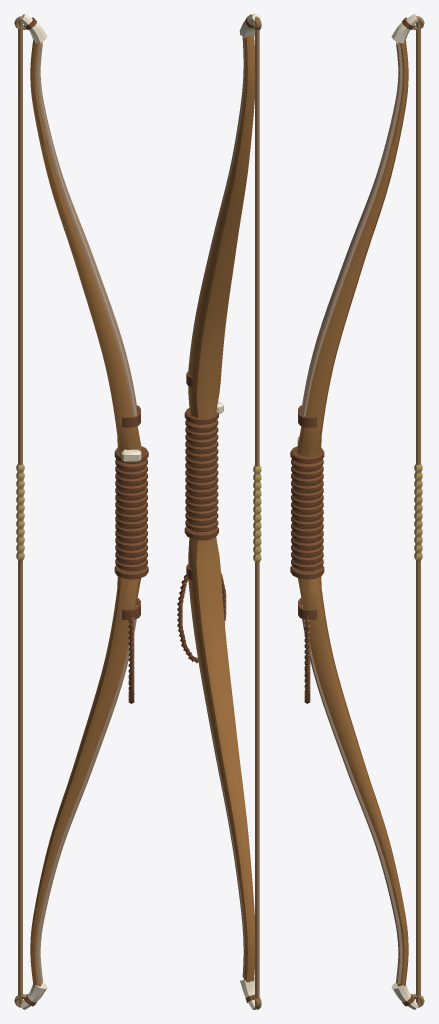
Rendered from tool_shortbow.fbx.
The picture shows the model from 3 angles, left to right: view 1: azimuth 90°, elevation 25°; view 2: azimuth 210°, elevation 25°; view 3: azimuth 270°, elevation 25°; orthographic projection.
Parts seen in each view (by area): view 1: Tool_ShortBow_Limbs, Tool_ShortBow_String, Tool_ShortBow_Leather, Tool_ShortBow_Sinew, Tool_ShortBow_Bone; view 2: Tool_ShortBow_Limbs, Tool_ShortBow_String, Tool_ShortBow_Leather, Tool_ShortBow_Sinew, Tool_ShortBow_Bone; view 3: Tool_ShortBow_Limbs, Tool_ShortBow_String, Tool_ShortBow_Leather, Tool_ShortBow_Sinew, Tool_ShortBow_Bone.
Part boxes in pixels (box(x1,y1,x2,y2)): Tool_ShortBow_Limbs: box(30, 40, 141, 986); Tool_ShortBow_String: box(14, 16, 26, 1007); Tool_ShortBow_Leather: box(114, 405, 148, 703); Tool_ShortBow_Sinew: box(36, 41, 137, 983); Tool_ShortBow_Bone: box(20, 14, 141, 1009); Tool_ShortBow_Limbs: box(188, 34, 254, 982); Tool_ShortBow_String: box(252, 16, 261, 1009); Tool_ShortBow_Leather: box(177, 371, 226, 663); Tool_ShortBow_Sinew: box(188, 37, 244, 977); Tool_ShortBow_Bone: box(216, 14, 259, 1009); Tool_ShortBow_Limbs: box(297, 40, 408, 986); Tool_ShortBow_String: box(412, 16, 424, 1007); Tool_ShortBow_Leather: box(290, 405, 324, 703); Tool_ShortBow_Sinew: box(301, 41, 402, 983); Tool_ShortBow_Bone: box(297, 14, 418, 1009).
Size of the model in its own units: 7.47 by 145 by 17.71.
